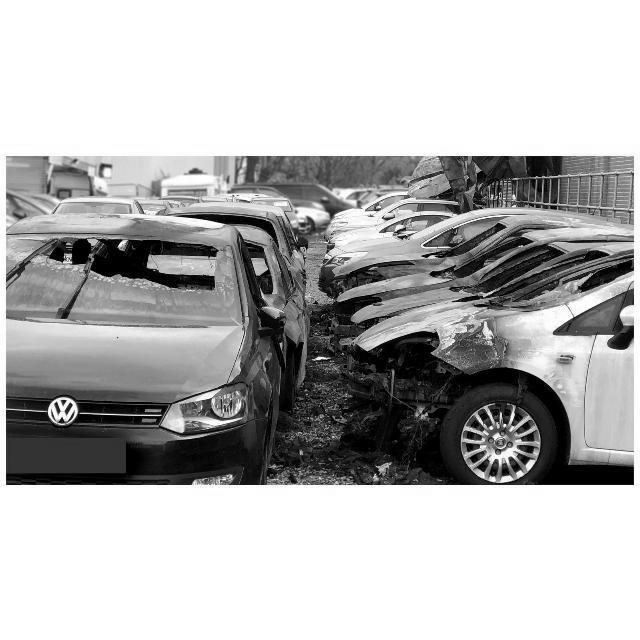Front-windscreen-damage: (8, 215, 228, 325)
